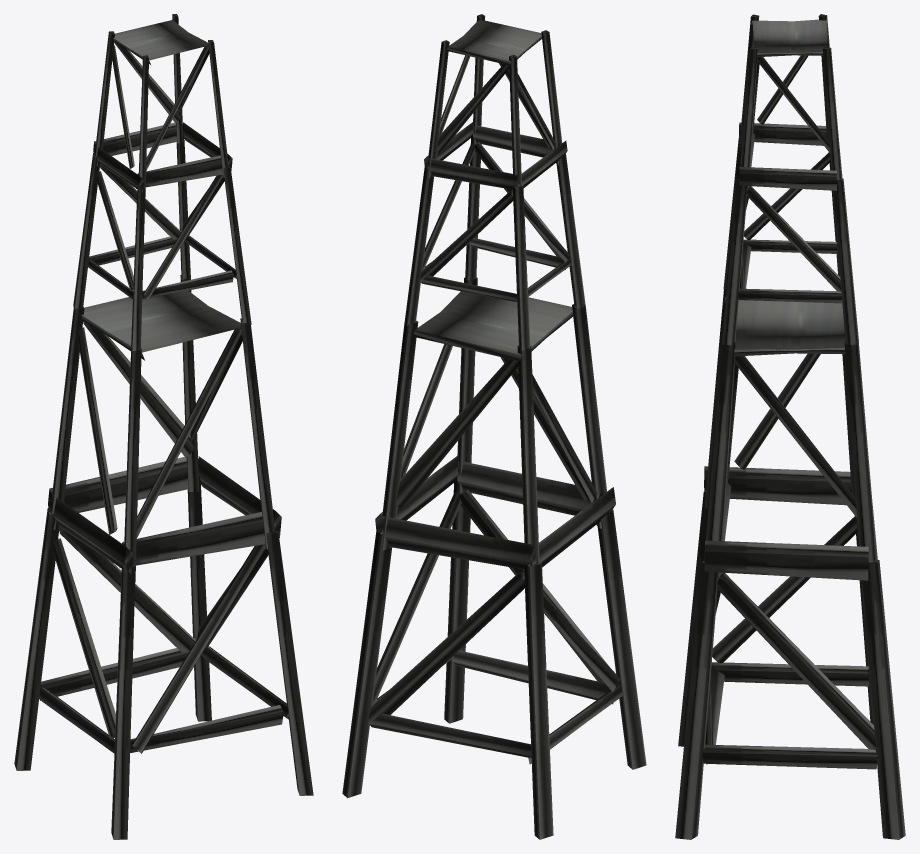
The model's file is shadow_crane.fbx.
3 renders of one model, left to right at view 1: azimuth 30°, elevation 25°; view 2: azimuth 150°, elevation 25°; view 3: azimuth 270°, elevation 25°, orthographic. The views are drawn at different scales.
Visible parts, largest first — view 1: shadow_crane; view 2: shadow_crane; view 3: shadow_crane.
Boxes of the visible parts, x1,y1,x2,y2 form: shadow_crane: (14,14,313,839); shadow_crane: (342,14,646,839); shadow_crane: (675,14,905,839).
Size of the model in its own units: 528 by 1861 by 513.
